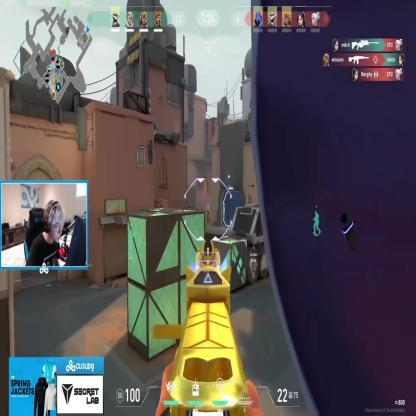enemy: (206, 206, 210, 221)
enemy_head: (207, 206, 208, 209)
